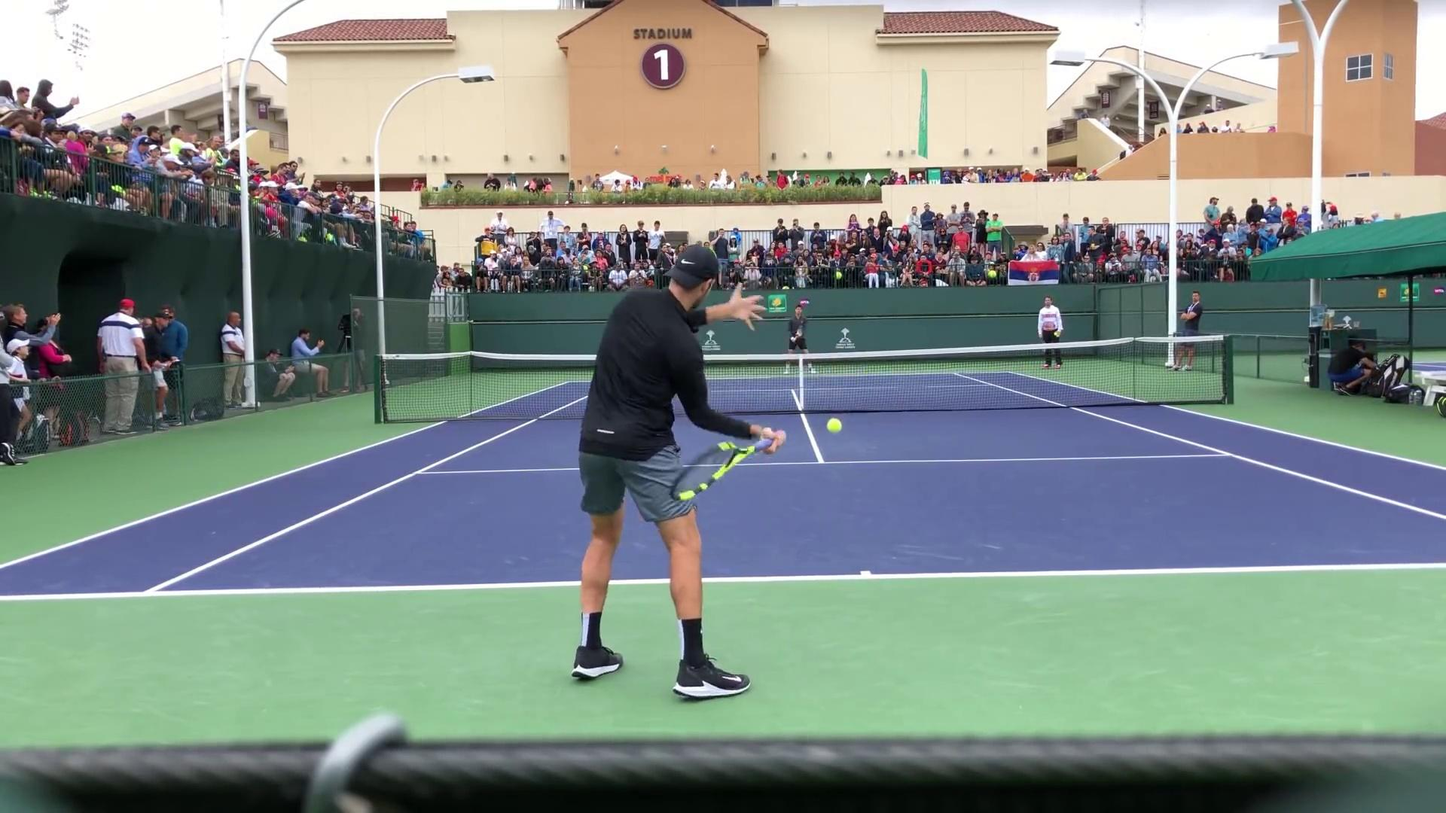ball: (825, 418, 843, 433), (604, 428, 613, 437)
